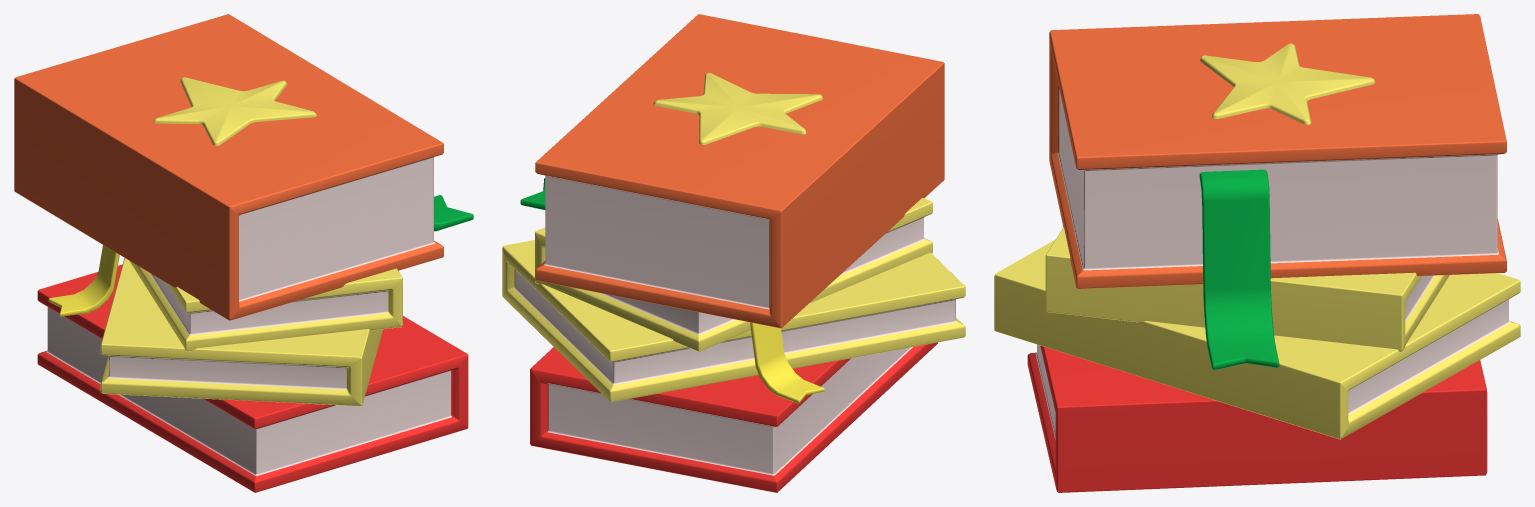
File: Public_2_Books_6.glb
3 renders of one model, left to right at view 1: azimuth 30°, elevation 25°; view 2: azimuth 150°, elevation 25°; view 3: azimuth 270°, elevation 25°, orthographic. The views are drawn at different scales.
Visible parts, largest first — view 1: Public_2_Books_6; view 2: Public_2_Books_6; view 3: Public_2_Books_6.
Boxes of the visible parts, box(x1,y1,x2,y2) form: Public_2_Books_6: box(14, 14, 473, 492); Public_2_Books_6: box(502, 14, 965, 492); Public_2_Books_6: box(994, 14, 1520, 492).
Size of the model in its own units: 2.45 by 1.73 by 2.49.
Materials: 1 (1 with a texture image).
